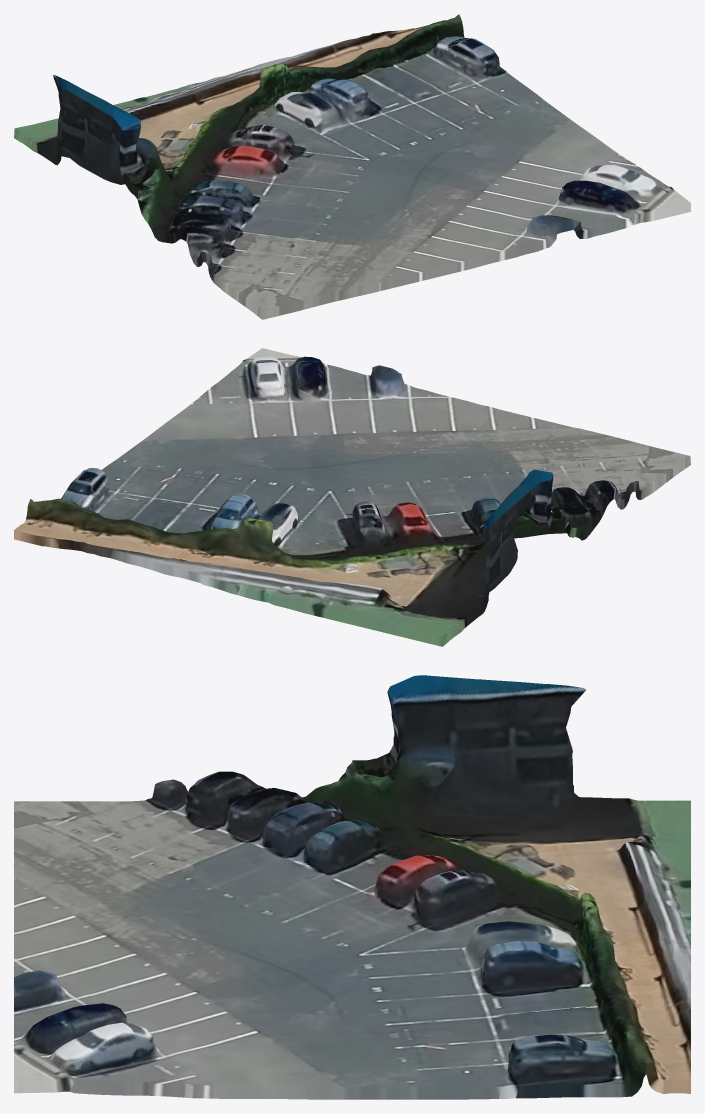
The model's file is z20-167782-405214-h0-yup-uvflip-v3-world.glb.
3 views of the same model, one above another, from view 1: azimuth 30°, elevation 25°; view 2: azimuth 150°, elevation 25°; view 3: azimuth 270°, elevation 25° (orthographic). The views are drawn at different scales.
Size of the model in its own units: 30.2 by 6.92 by 30.32.
Materials: 1 (1 with a texture image).
